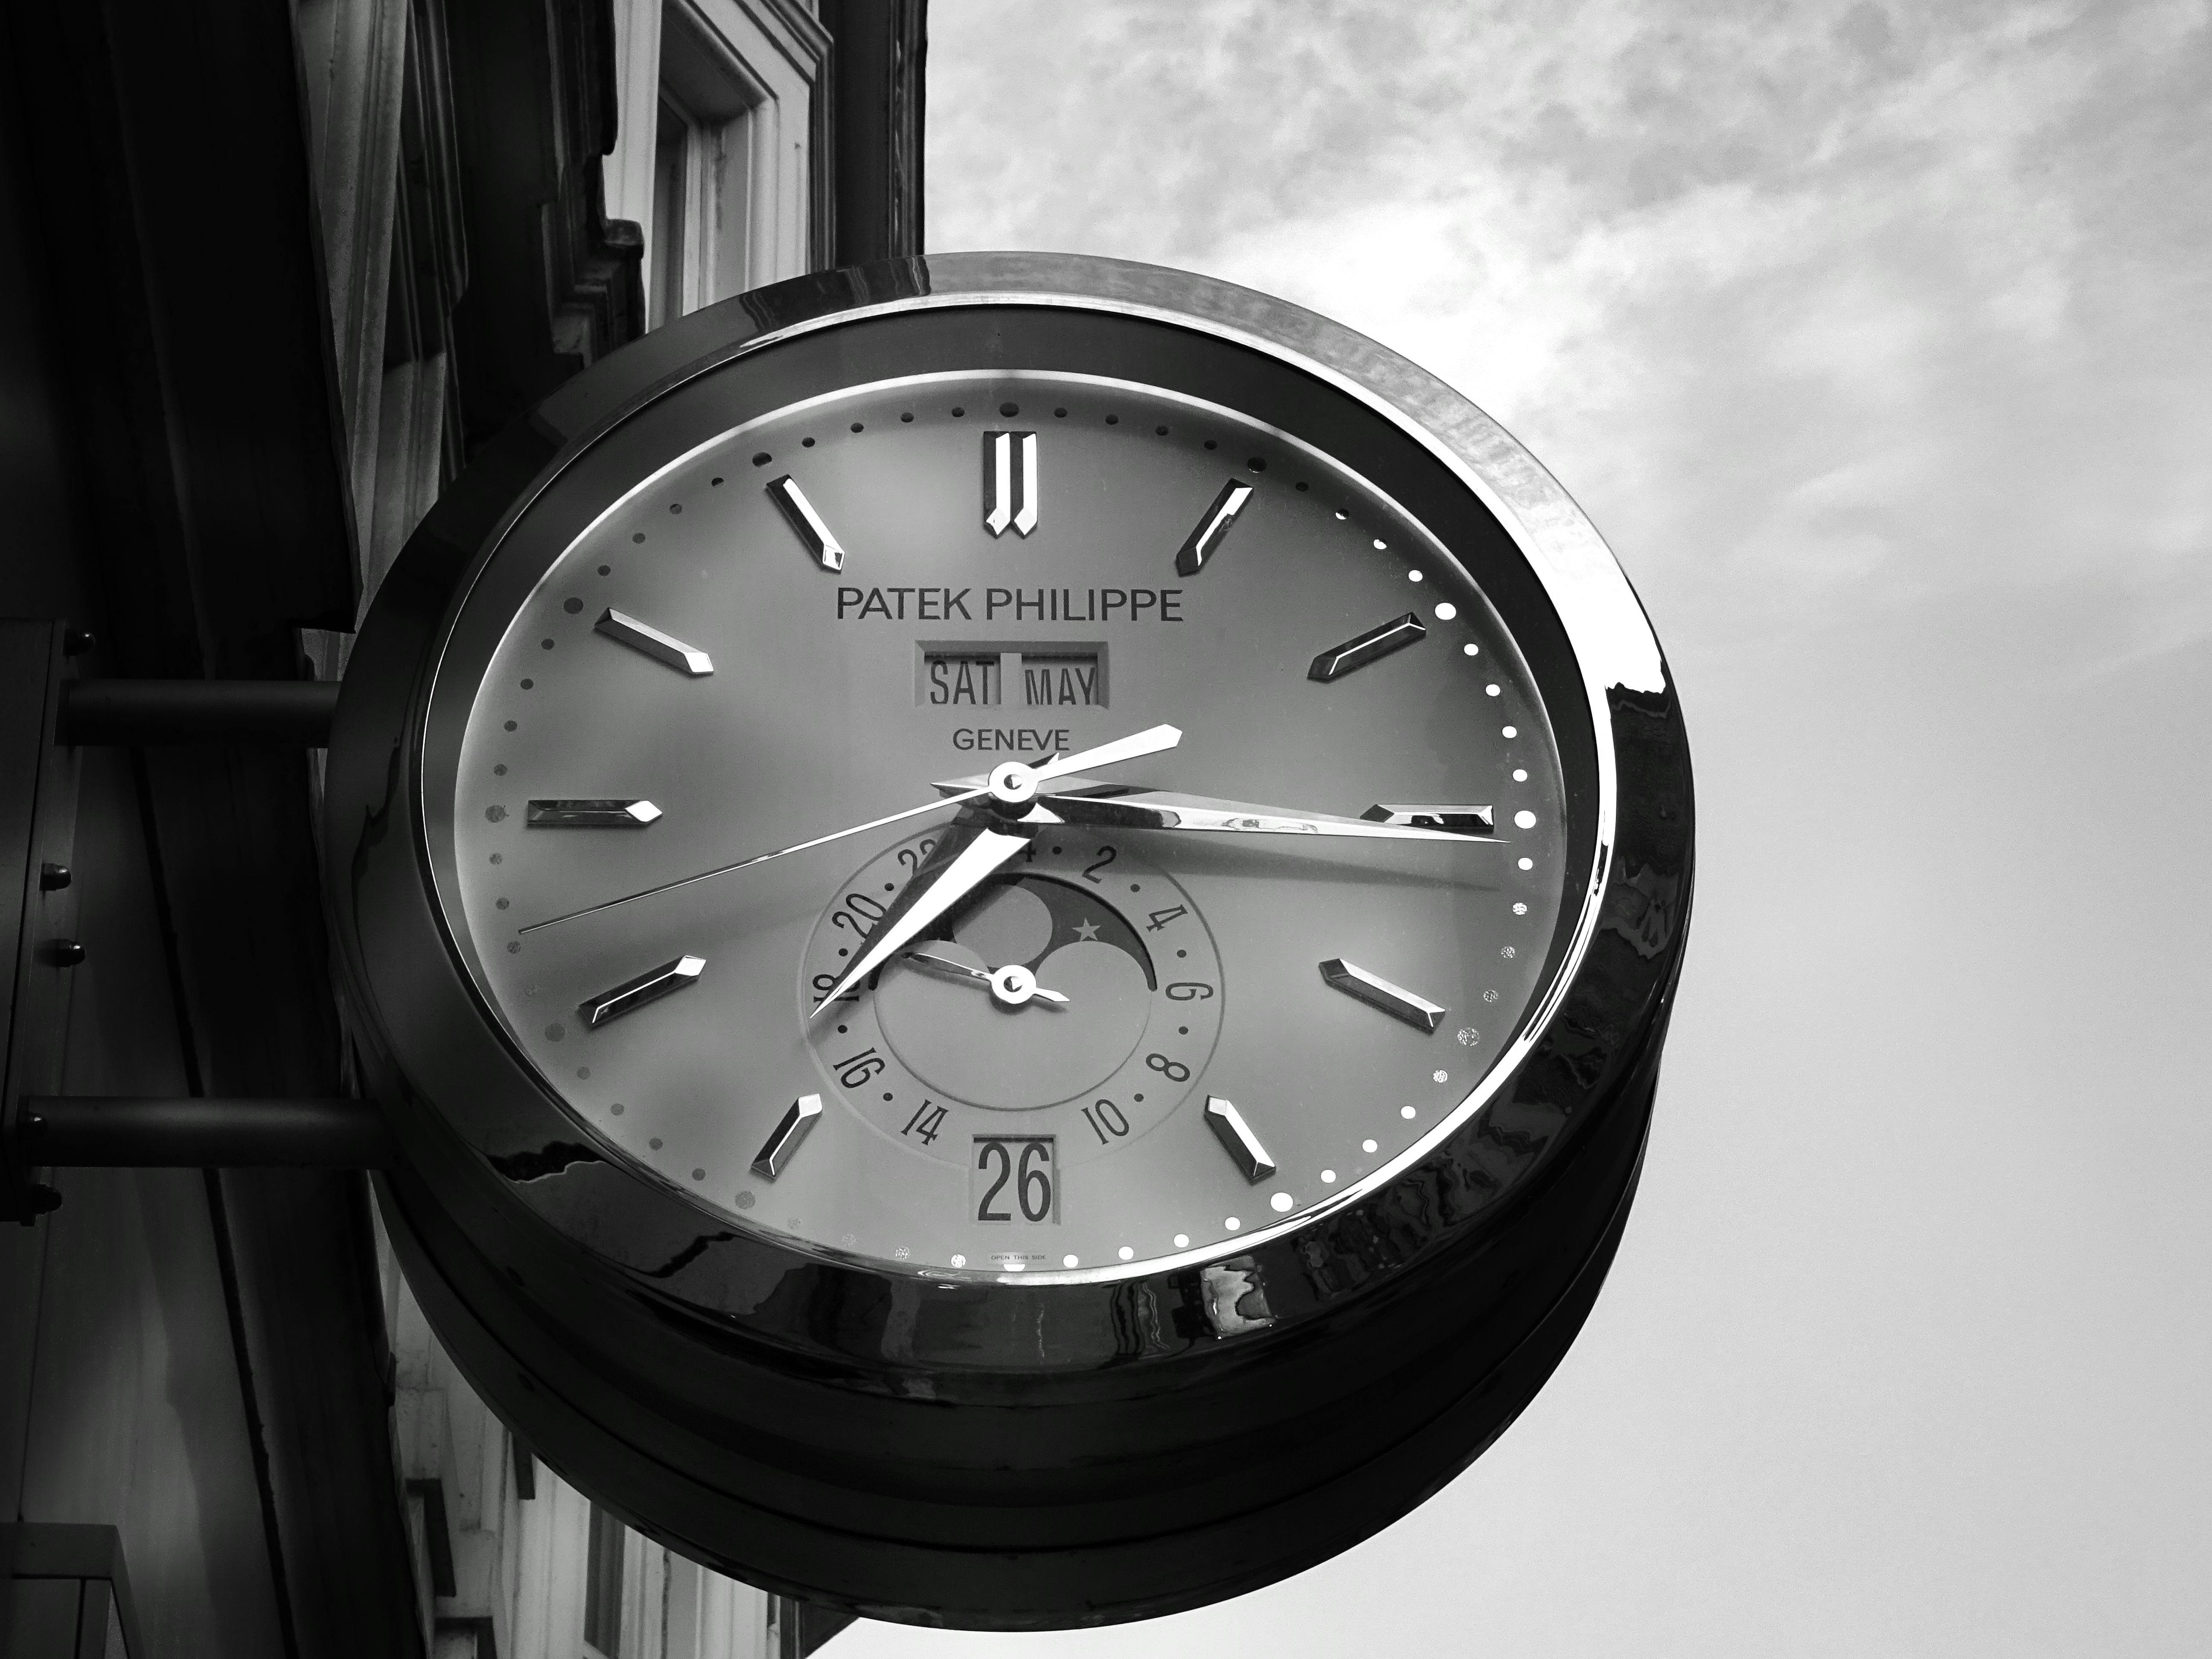clock: (416, 197, 1834, 1563)
